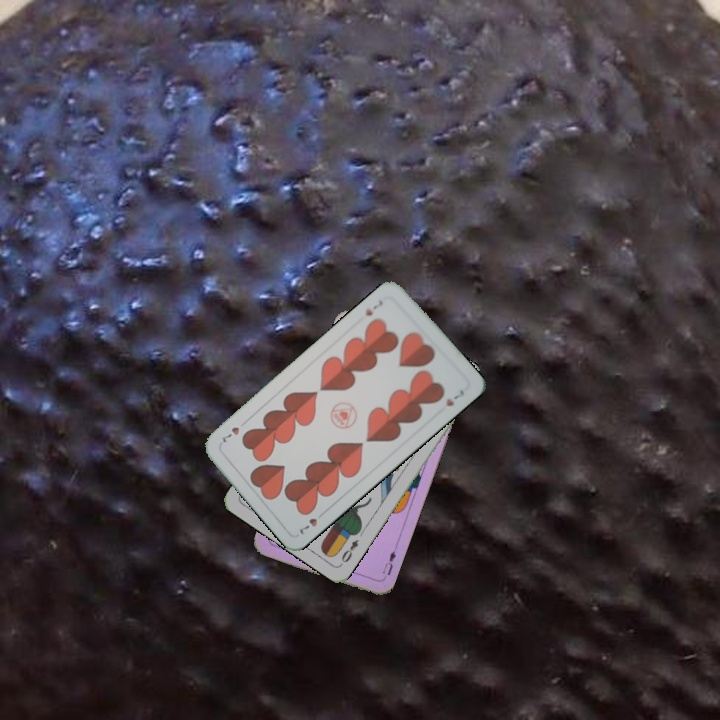EO: (337, 535, 361, 568)
EU: (378, 543, 398, 583)
H7: (295, 507, 328, 537), (361, 296, 385, 318)
